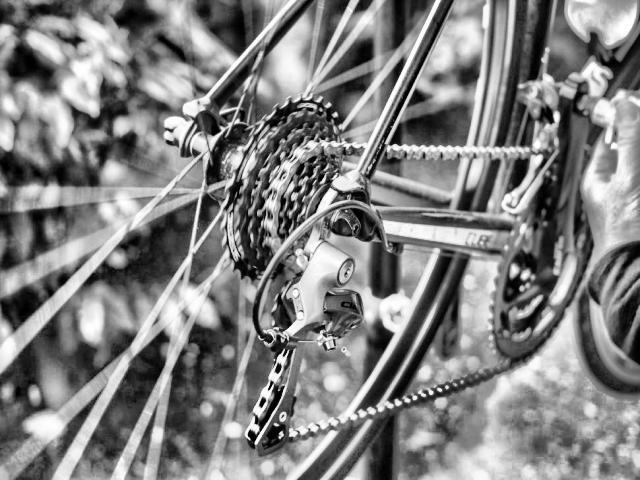cassette: (220, 96, 353, 271)
cranks_set: (487, 72, 595, 367)
rear_derailleur: (242, 235, 366, 463)
